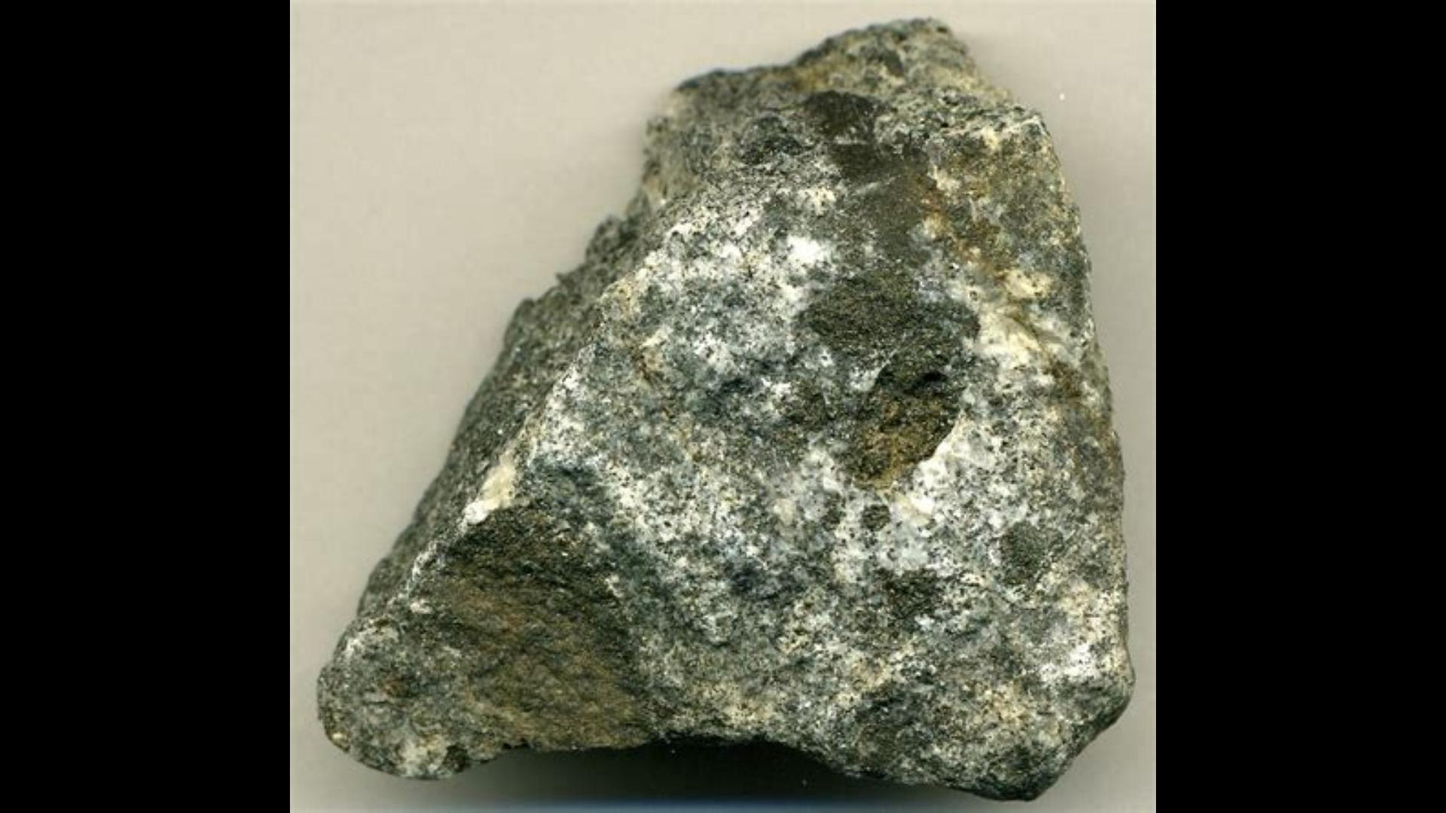rock: (321, 20, 1129, 797)
